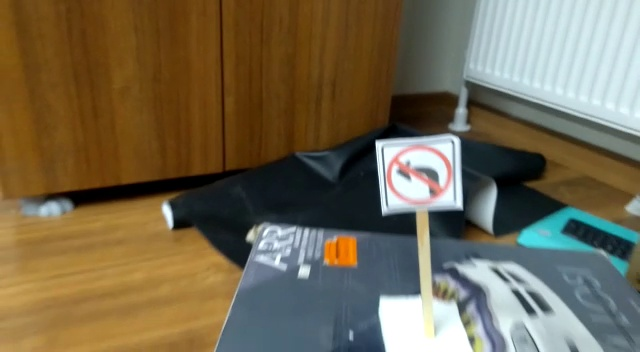sola_donulmez: (384, 139, 456, 211)
